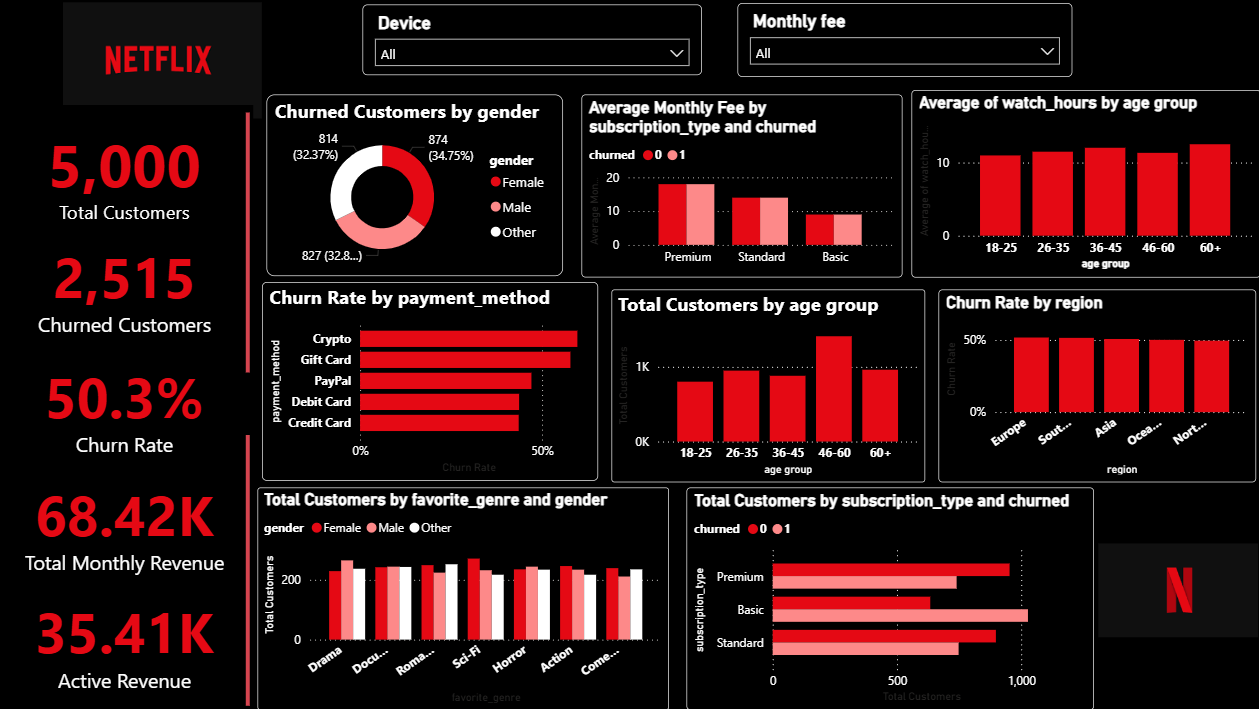

What the dashboard file says about the page in this screenshot:
{"tool":"powerbi","page":{"name":"Page 1","canvas":[1280,720],"ordinal":0},"visuals":[{"type":"donutChart","fields":{"Category":["netflix_customer_churn.gender"],"Y":["Table_measures.Churned Customers"]},"box":[273.6,98.8,299.4,183.3],"z":0},{"type":"columnChart","fields":{"Category":["mapping_agegroup.age group"],"Y":["Table_measures.Total Customers"]},"box":[623.1,295.1,316.6,194.8],"z":1000},{"type":"clusteredColumnChart","fields":{"Category":["netflix_customer_churn.favorite_genre"],"Y":["Table_measures.Total Customers"],"Series":["netflix_customer_churn.gender"]},"box":[265,495.1,415.4,224.9],"z":2000},{"type":"clusteredColumnChart","fields":{"Y":["Avg(netflix_customer_churn.watch_hours)"],"Category":["mapping_agegroup.age group"]},"box":[925.3,94.5,352.4,189.1],"z":3000},{"type":"clusteredBarChart","fields":{"Category":["netflix_customer_churn.subscription_type"],"Y":["Table_measures.Total Customers"],"Series":["netflix_customer_churn.churned"]},"box":[697.6,495.6,411.1,224.9],"z":4000},{"type":"clusteredColumnChart","fields":{"Y":["Table_measures.Average Monthly Fee"],"Category":["netflix_customer_churn.subscription_type"],"Series":["netflix_customer_churn.churned"]},"box":[591.6,98.8,323.7,184.8],"z":5000},{"type":"clusteredBarChart","fields":{"Category":["netflix_customer_churn.payment_method"],"Y":["Table_measures.Churn Rate"]},"box":[269.3,287.9,339.5,200.5],"z":6000},{"type":"columnChart","fields":{"Category":["netflix_customer_churn.region"],"Y":["Table_measures.Churn Rate"]},"box":[952.5,295.1,320.9,194.8],"z":7000},{"type":"card","fields":{"Values":["Table_measures.Churned Customers"]},"box":[0,225.9,260.9,133.6],"z":8000},{"type":"card","fields":{"Values":["Table_measures.Churn Rate"]},"box":[0,349.5,260.7,127.5],"z":9000},{"type":"card","fields":{"Values":["Table_measures.Total Monthly Revenue"]},"box":[0,461.3,260.9,141.6],"z":10000},{"type":"card","fields":{"Values":["Table_measures.Active Revenue"]},"box":[0,598.1,260.9,106.6],"z":11000},{"type":"image","box":[0,0,338,127.5],"z":12000},{"type":"card","fields":{"Values":["Table_measures.Total Customers"]},"box":[0,109.8,260.9,136.8],"z":13000},{"type":"image","box":[1108.7,477,171.9,243.5],"z":14000},{"type":"slicer","fields":{"Values":["netflix_customer_churn.device"]},"box":[371,7.2,342.3,71.6],"z":15000},{"type":"slicer","fields":{"Values":["netflix_customer_churn.monthly_fee"]},"box":[749.1,5.7,338,74.5],"z":16000},{"type":"shape","box":[128.8,116.1,252.9,262.5],"z":17000},{"type":"shape","box":[128.8,442.2,252.9,273.6],"z":18000}]}

Visuals, with their boxes in screenshot pixels (x1, y1, x2, y2), scaled from the page's 1280x720 canvas onto the 1259x709 screenshot:
donutChart - netflix_customer_churn.gender x Table_measures.Churned Customers: Rect(269, 97, 564, 278)
columnChart - mapping_agegroup.age group x Table_measures.Total Customers: Rect(613, 291, 924, 482)
clusteredColumnChart - netflix_customer_churn.favorite_genre x Table_measures.Total Customers: Rect(261, 488, 669, 708)
clusteredColumnChart - Avg(netflix_customer_churn.watch_hours) x mapping_agegroup.age group: Rect(910, 93, 1257, 279)
clusteredBarChart - netflix_customer_churn.subscription_type x Table_measures.Total Customers: Rect(686, 488, 1091, 708)
clusteredColumnChart - Table_measures.Average Monthly Fee x netflix_customer_churn.subscription_type: Rect(582, 97, 900, 279)
clusteredBarChart - netflix_customer_churn.payment_method x Table_measures.Churn Rate: Rect(265, 284, 599, 481)
columnChart - netflix_customer_churn.region x Table_measures.Churn Rate: Rect(937, 291, 1253, 482)
card - Table_measures.Churned Customers: Rect(0, 222, 257, 354)
card - Table_measures.Churn Rate: Rect(0, 344, 256, 470)
card - Table_measures.Total Monthly Revenue: Rect(0, 454, 257, 594)
card - Table_measures.Active Revenue: Rect(0, 589, 257, 694)
image: Rect(0, 0, 332, 126)
card - Table_measures.Total Customers: Rect(0, 108, 257, 243)
image: Rect(1091, 470, 1258, 708)
slicer - netflix_customer_churn.device: Rect(365, 7, 702, 78)
slicer - netflix_customer_churn.monthly_fee: Rect(737, 6, 1069, 79)
shape: Rect(127, 114, 375, 373)
shape: Rect(127, 435, 375, 705)
